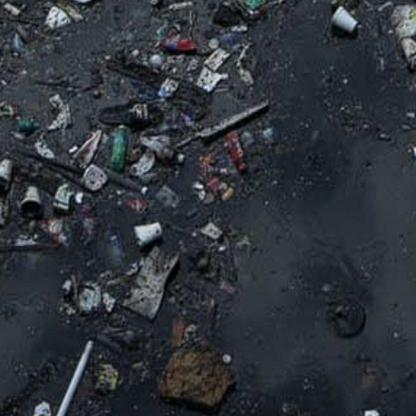Glass: (224, 128, 246, 174)
Metal: (156, 34, 199, 58)
Plastic: (139, 131, 189, 166), (130, 216, 166, 249), (17, 184, 44, 224), (107, 124, 128, 172), (327, 7, 357, 33), (0, 151, 19, 187)
Trash: (95, 92, 164, 127)
